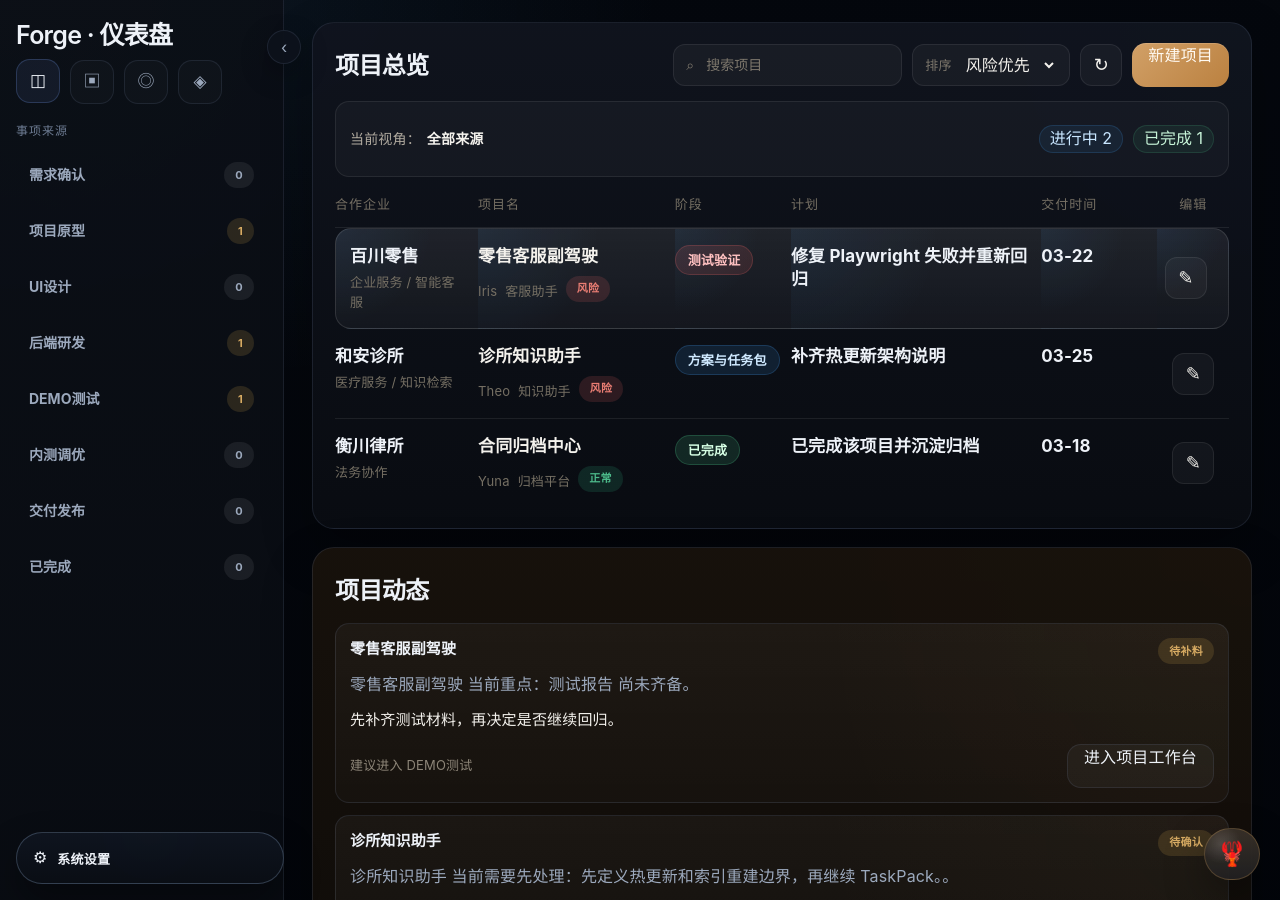
Test: Forge home page › lets the summary progress chips filter in-progress and completed projects
The width and height of the screenshot is (1280, 900).
Check: the button "进行中 2" is shown, box [1039, 125, 1123, 153]
Click the button "已完成 1": (1174, 139) [1133, 125, 1214, 153]
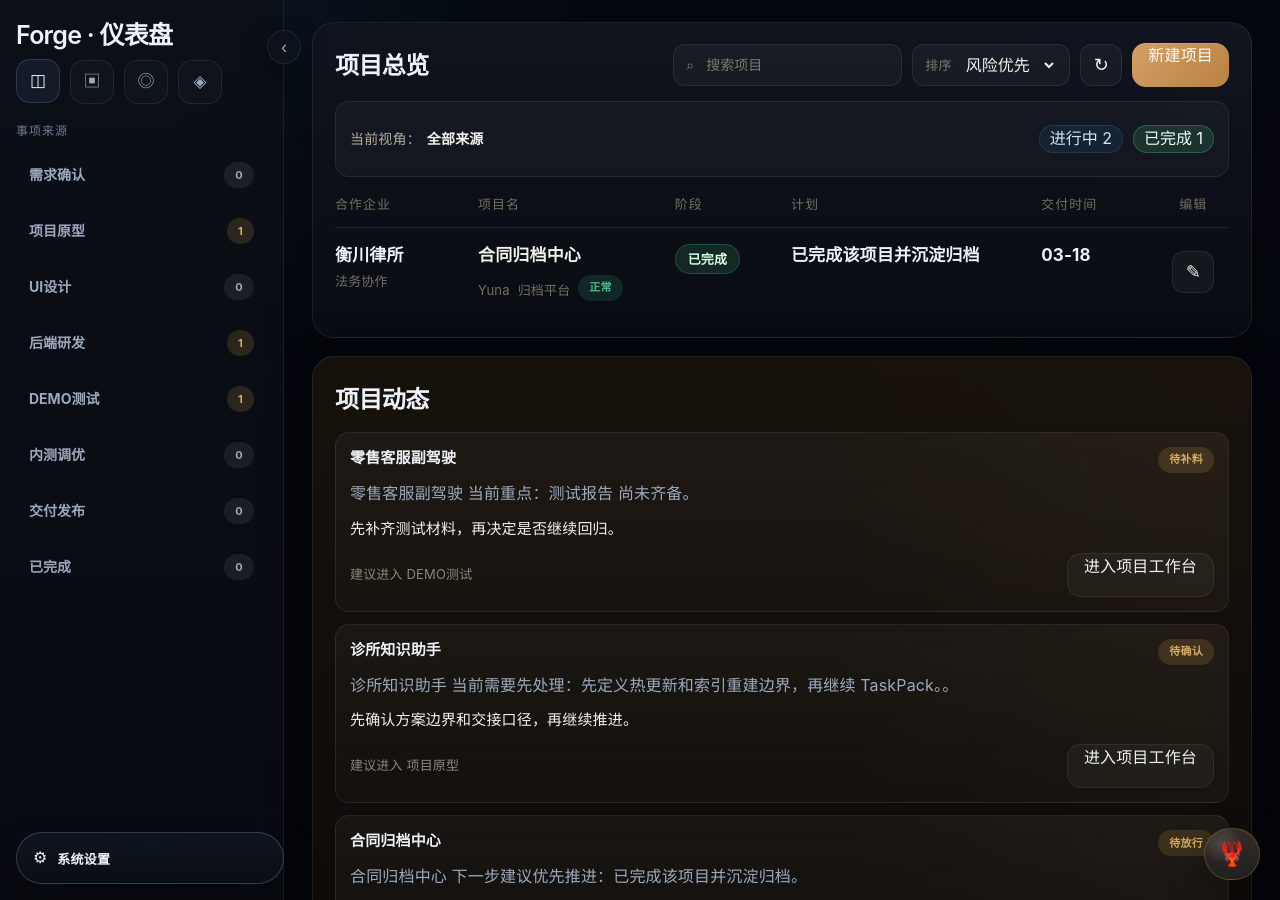
Check: the link "合同归档中心" is shown, box [478, 245, 581, 265]
Click the button "进行中 2": (1081, 139) [1039, 125, 1123, 153]
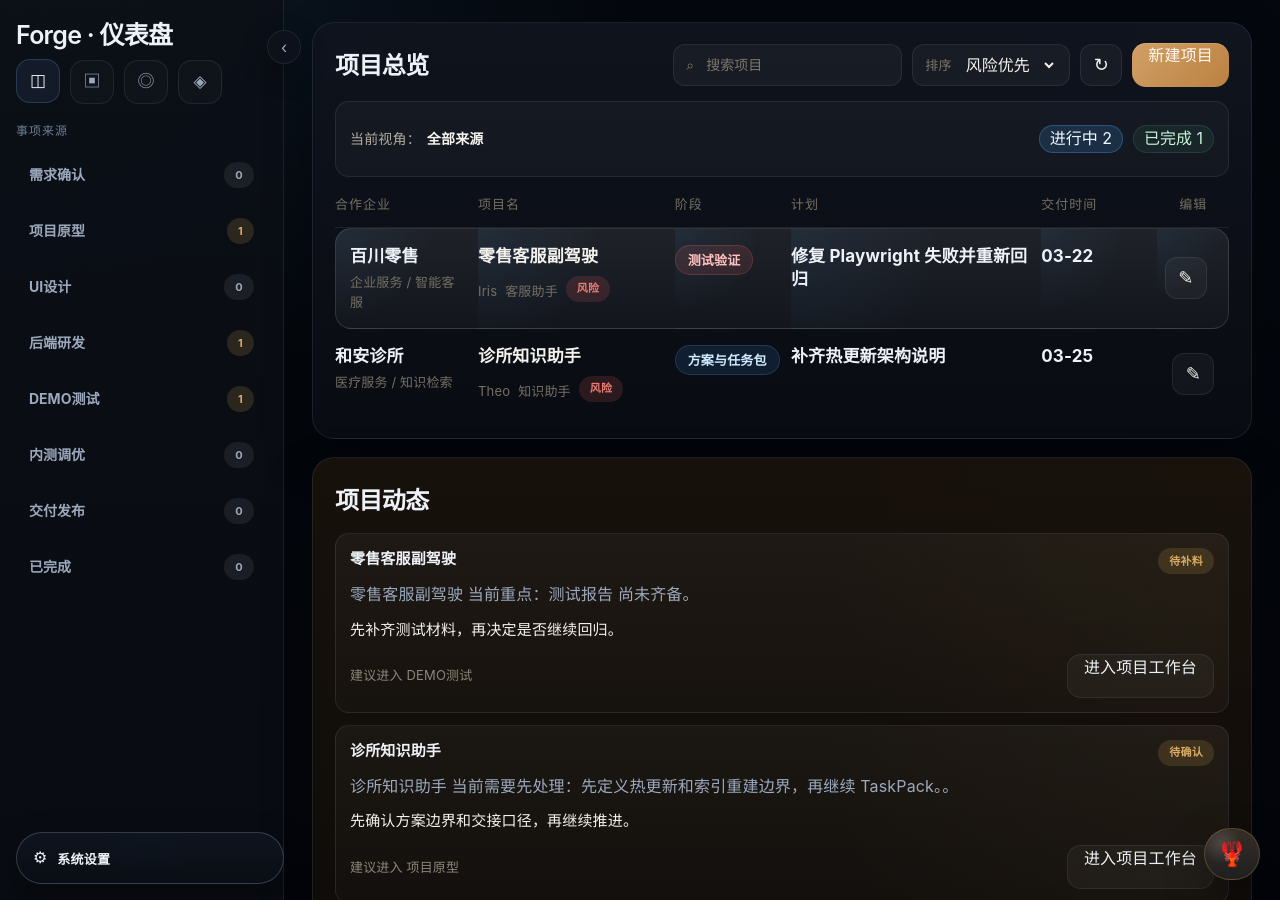
Check: the text "合同归档中心" is not shown
Check: the link "零售客服副驾驶" is shown, box [478, 246, 598, 266]
Check: the link "诊所知识助手" is shown, box [478, 346, 581, 366]
